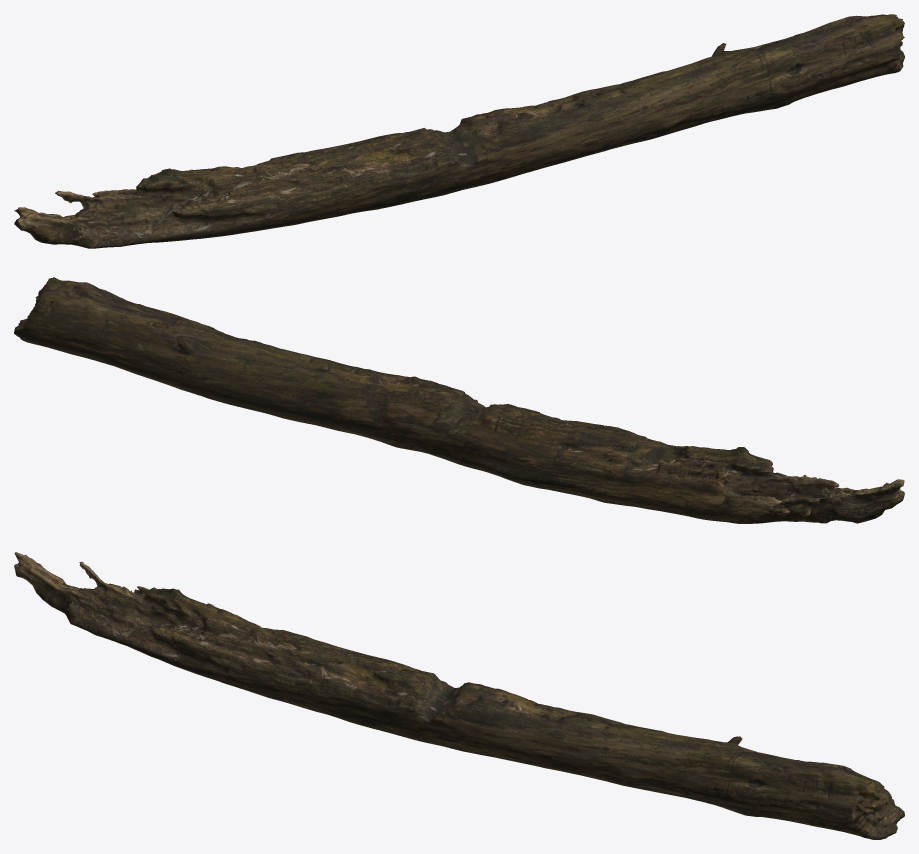
File: dead_tree_trunk.glb
3 renders of one model, top to bottom at view 1: azimuth 30°, elevation 25°; view 2: azimuth 150°, elevation 25°; view 3: azimuth 330°, elevation 25°, orthographic.
Visible parts, largest first — view 1: dead_tree_trunk; view 2: dead_tree_trunk; view 3: dead_tree_trunk.
Boxes of the visible parts, x1=… form: dead_tree_trunk: x1=14, y1=14, x2=904, y2=248; dead_tree_trunk: x1=14, y1=277, x2=904, y2=523; dead_tree_trunk: x1=14, y1=552, x2=904, y2=839.
Bounding box in the file's own units: 3.05 × 0.2896 × 0.2772.
1 material, 1 textured.
